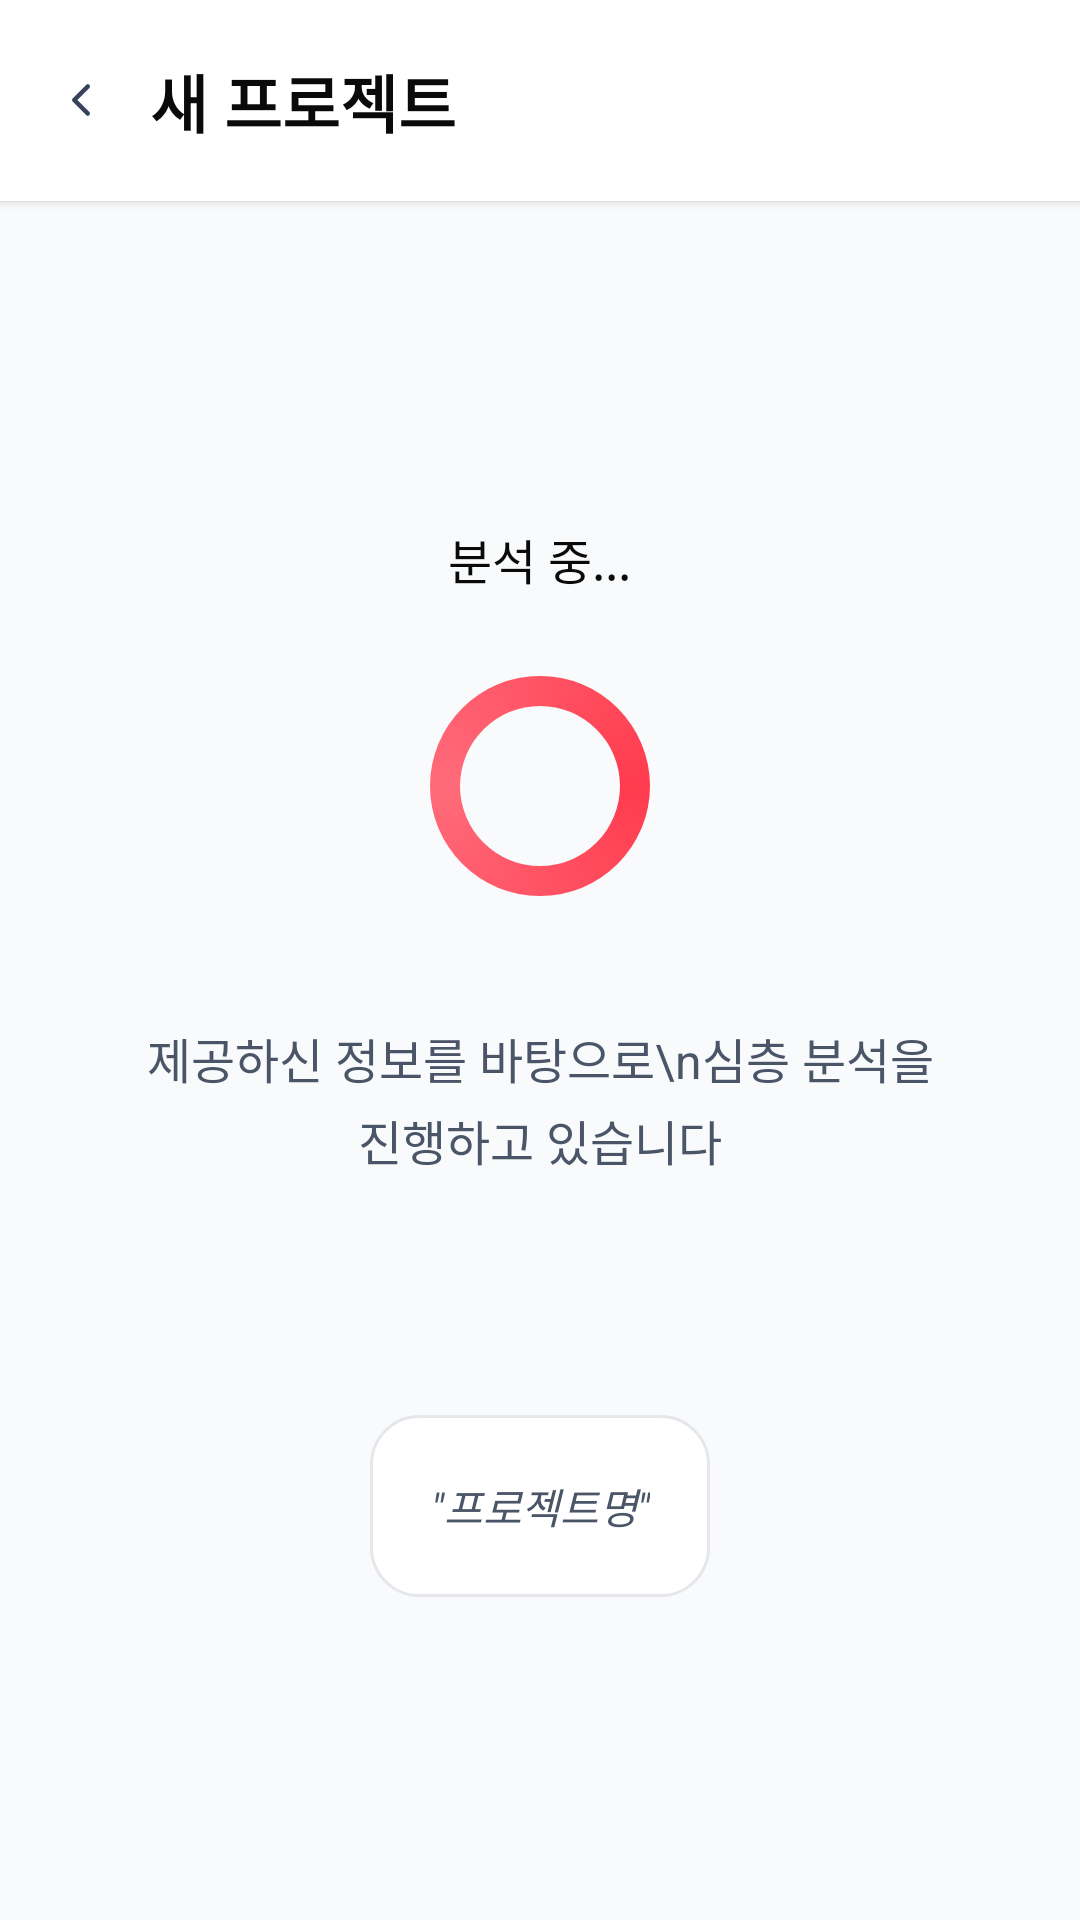

Where to tap for icons on this 1080x1920 app screen, as (x=x, y=y):
뒤로가기: (x=81, y=100)
